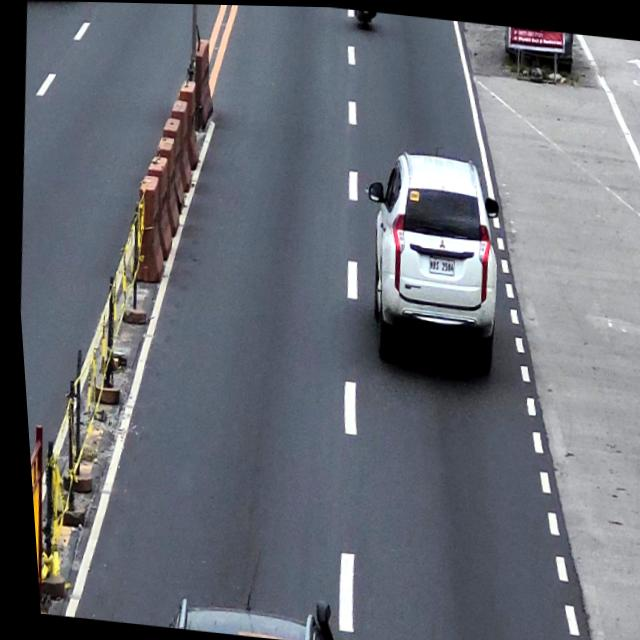Car: (348, 143, 509, 376)
License-Plate: (423, 255, 451, 275)
